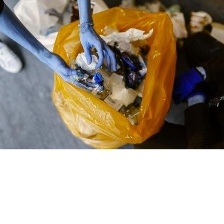plastic_bag: (48, 2, 179, 150)
